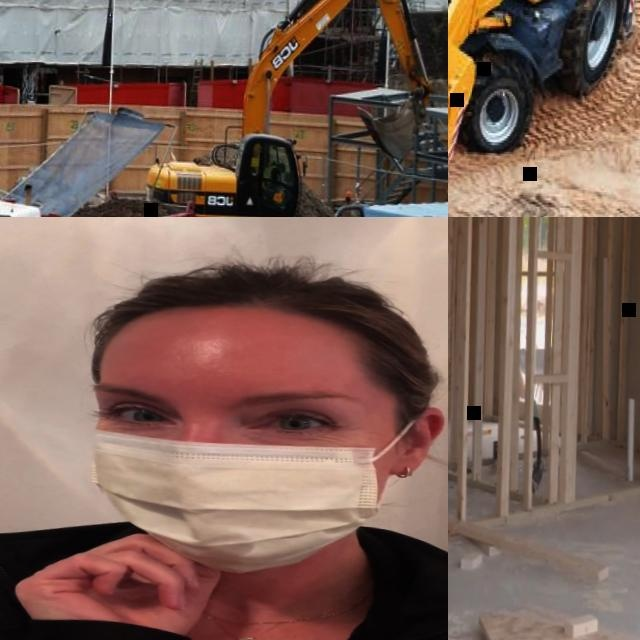Mask: (92, 386, 416, 575)
NO-Hardhat: (96, 250, 426, 361), (279, 162, 287, 172)
NO-Safety Vest: (0, 553, 448, 640)
Person: (0, 241, 448, 640), (259, 160, 287, 198)
Safety Vest: (260, 164, 278, 188)
machinery: (135, 0, 445, 217), (448, 0, 640, 193), (0, 99, 200, 217)
